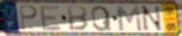B: (66, 5, 89, 32)
E: (39, 4, 63, 31)
M: (115, 4, 144, 32)
N: (140, 5, 165, 32)
P: (18, 4, 40, 32)
Q: (90, 4, 113, 32)
